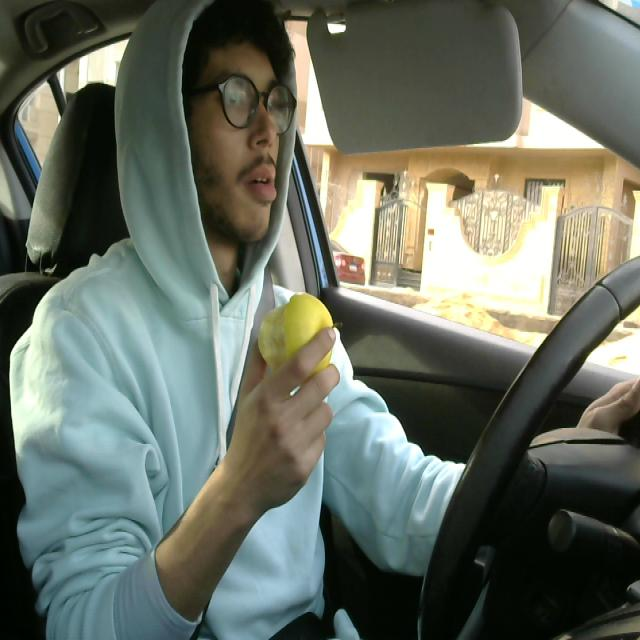eating: (247, 288, 340, 379)
